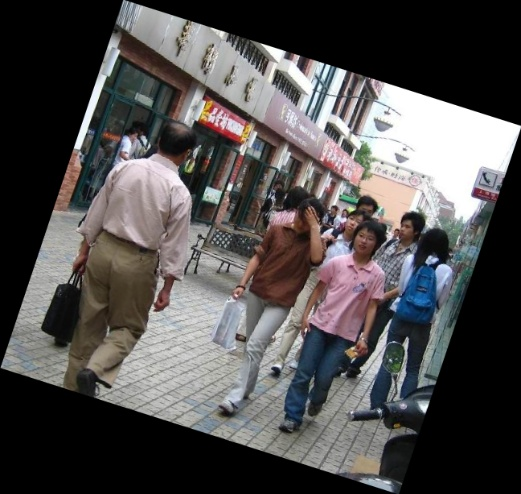person: (29, 116, 171, 493), (253, 164, 324, 467), (346, 171, 409, 470), (435, 156, 503, 396)
